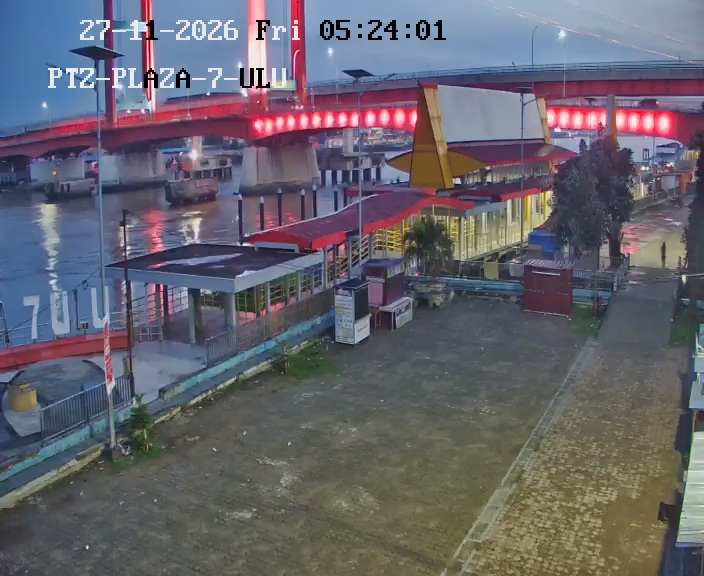Gerobak: (367, 257, 413, 330), (333, 257, 370, 344)
